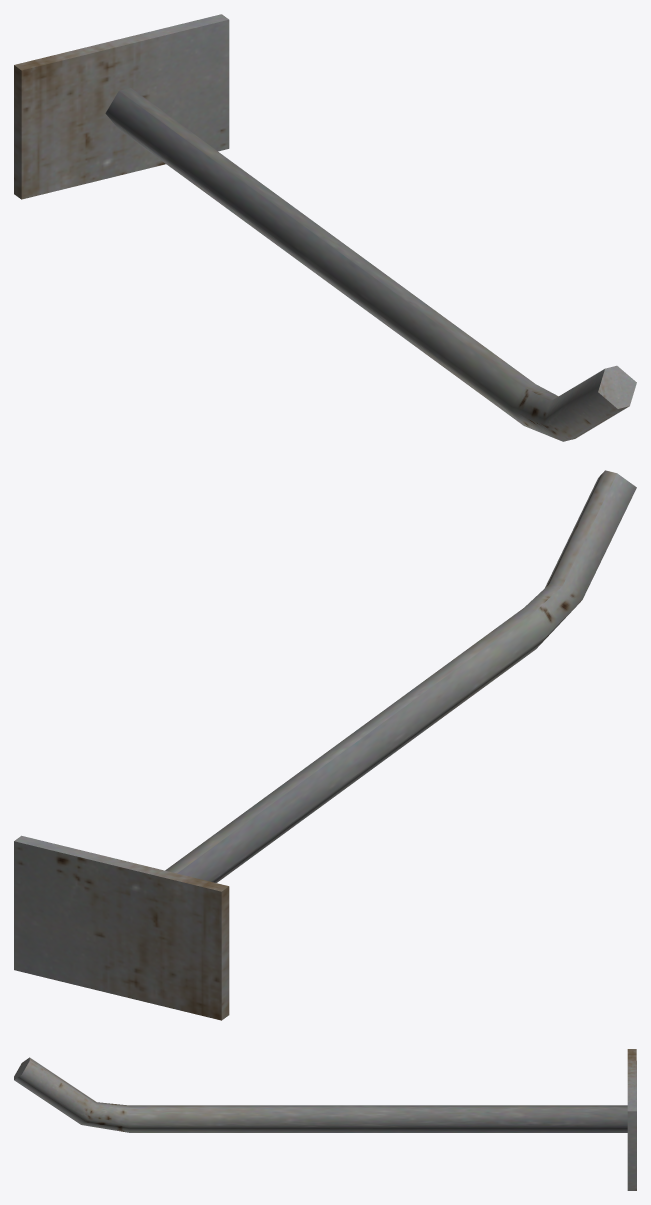
Rendered from hanger01b.fbx.
3 views of the same model, one above another, from view 1: azimuth 30°, elevation 25°; view 2: azimuth 150°, elevation 25°; view 3: azimuth 270°, elevation 25° (orthographic). The views are drawn at different scales.
Parts seen in each view (by area): view 1: fookholder01b; view 2: fookholder01b; view 3: fookholder01b.
Part boxes in pixels (box(x1,y1,x2,y2)): fookholder01b: box(14, 14, 636, 441); fookholder01b: box(14, 470, 636, 1020); fookholder01b: box(14, 1049, 636, 1190).
Bounding box in the file's own units: 6.73 × 5.05 × 28.41.
